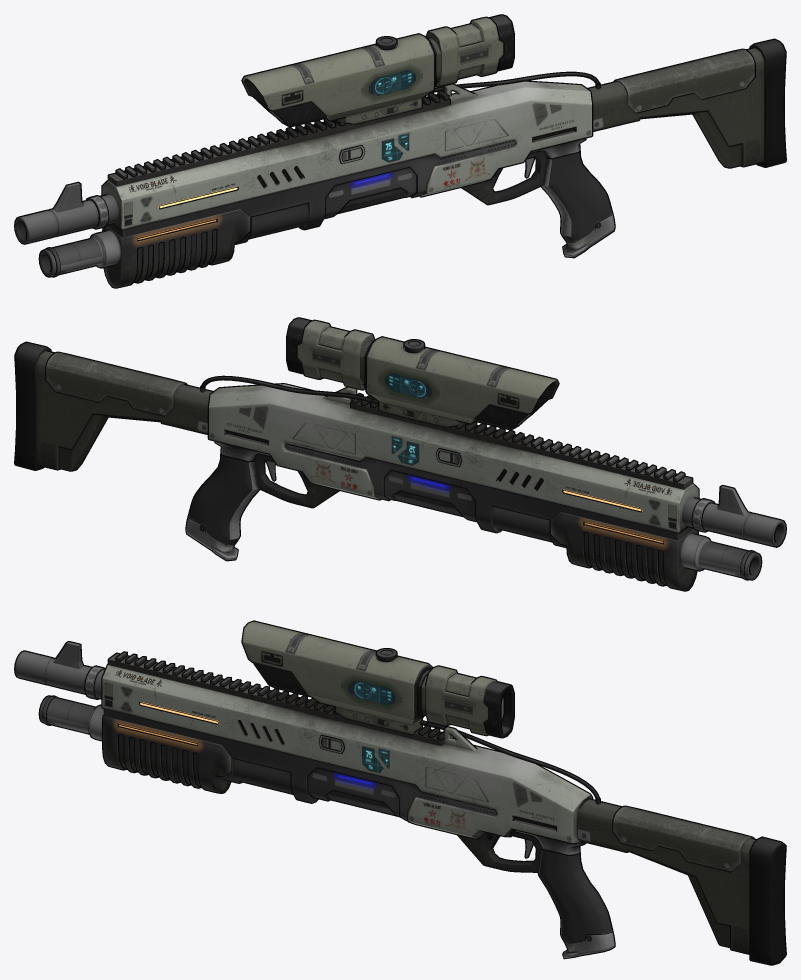
Rendered from futuristic_rifle.glb.
The picture shows the model from 3 angles, top to bottom: view 1: azimuth 30°, elevation 25°; view 2: azimuth 150°, elevation 25°; view 3: azimuth 330°, elevation 25°; orthographic projection.
Parts seen in each view (by area): view 1: Plane015_gun_0, Box010_gun_0, rifleToon_rifleToon_0, Plane019_gun_0, Plane016_gun_0, Cylinder007_gun_0, Plane017, Object003_gun_0, Box009_gun_0, Box011_gun_0, Cylinder009, Shape005_gun_0 (+4 smaller); view 2: Plane015_gun_0, Box010_gun_0, rifleToon_rifleToon_0, Plane019_gun_0, Plane016_gun_0, Cylinder007_gun_0, Plane017, Object003_gun_0, Box009_gun_0, Box011_gun_0, Cylinder009, Shape005_gun_0 (+5 smaller); view 3: Plane015_gun_0, rifleToon_rifleToon_0, Box010_gun_0, Plane019_gun_0, Plane016_gun_0, Cylinder007_gun_0, Plane017, Object003_gun_0, Shape005_gun_0, Box009_gun_0, Box011_gun_0, Cylinder009 (+4 smaller).
Boxes of the visible parts, x1,y1,x2,y2 form: Plane015_gun_0: [102, 81, 591, 229]; Box010_gun_0: [242, 34, 440, 126]; rifleToon_rifleToon_0: [14, 14, 786, 288]; Plane019_gun_0: [107, 140, 515, 243]; Plane016_gun_0: [589, 48, 764, 167]; Cylinder007_gun_0: [103, 209, 249, 287]; Plane017: [531, 139, 614, 257]; Object003_gun_0: [615, 49, 754, 112]; Box009_gun_0: [108, 91, 449, 186]; Box011_gun_0: [427, 17, 503, 86]; Cylinder009: [15, 183, 118, 243]; Shape005_gun_0: [750, 39, 785, 166]; Plane015_gun_0: [209, 384, 698, 532]; Box010_gun_0: [360, 337, 558, 429]; rifleToon_rifleToon_0: [14, 317, 786, 591]; Plane019_gun_0: [285, 443, 693, 546]; Plane016_gun_0: [36, 351, 211, 470]; Cylinder007_gun_0: [551, 512, 697, 590]; Plane017: [186, 442, 269, 560]; Object003_gun_0: [46, 352, 185, 415]; Box009_gun_0: [351, 394, 692, 489]; Box011_gun_0: [297, 320, 373, 389]; Cylinder009: [682, 486, 785, 546]; Shape005_gun_0: [15, 343, 50, 469]; Plane015_gun_0: [102, 664, 591, 843]; rifleToon_rifleToon_0: [14, 620, 786, 965]; Box010_gun_0: [242, 621, 431, 734]; Plane019_gun_0: [104, 708, 497, 819]; Plane016_gun_0: [578, 799, 755, 953]; Cylinder007_gun_0: [103, 716, 231, 792]; Plane017: [514, 830, 614, 958]; Object003_gun_0: [613, 806, 752, 871]; Shape005_gun_0: [750, 837, 785, 964]; Box009_gun_0: [108, 652, 444, 745]; Box011_gun_0: [426, 666, 496, 735]; Cylinder009: [15, 642, 104, 698].
Bounding box in the file's own units: 3.83 × 1.25 × 0.1884.
2 materials, 1 textured.
